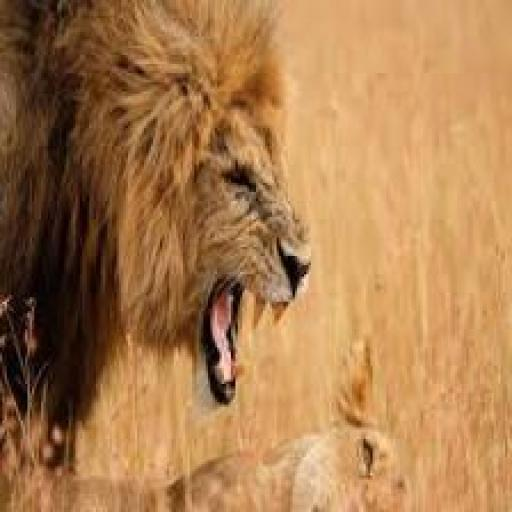lion: (0, 0, 325, 414)
